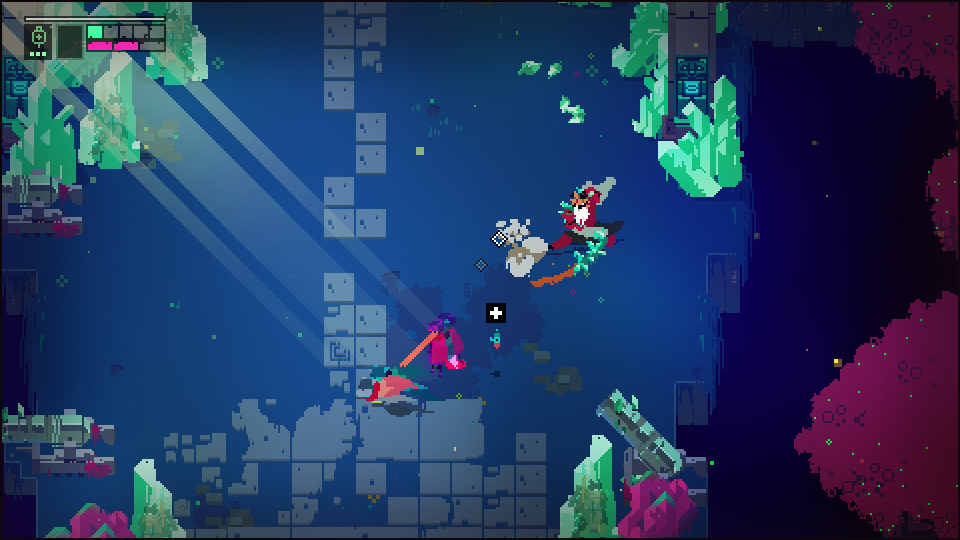hanged_man: (534, 176, 621, 291)
player: (357, 373, 430, 410)
